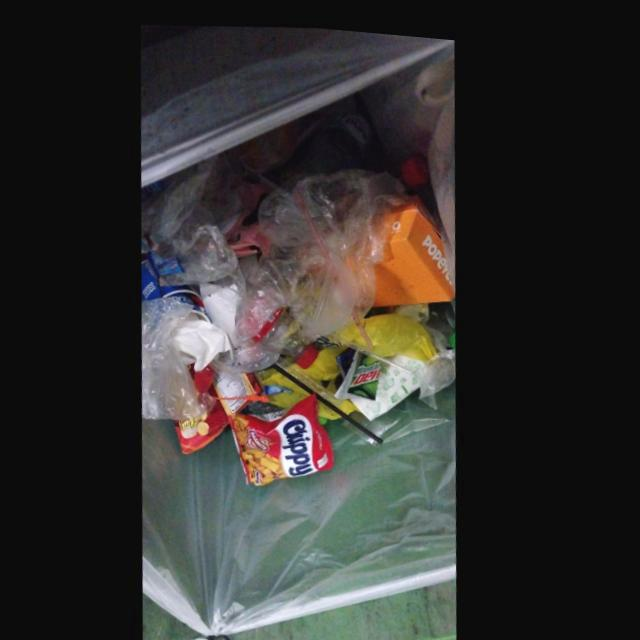cardboard: (374, 186, 459, 299)
food_wrapper: (234, 386, 341, 480), (181, 363, 268, 449), (145, 238, 188, 273)
plastic_bag: (146, 292, 206, 415)
plastic_bottle: (257, 301, 323, 362)
